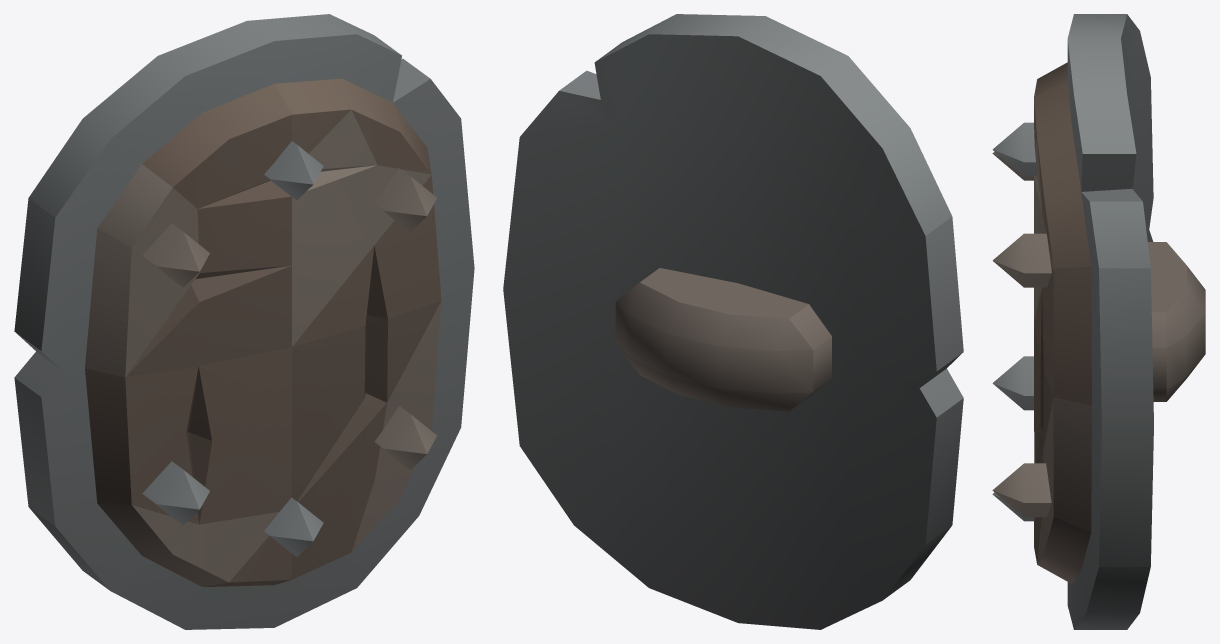
The model's file is XS_Skeleton_Shield_Large_B.glb.
The picture shows the model from 3 angles, left to right: view 1: azimuth 30°, elevation 25°; view 2: azimuth 150°, elevation 25°; view 3: azimuth 270°, elevation 25°; orthographic projection. The views are drawn at different scales.
Visible parts, largest first — view 1: Skeleton_Shield_Large_B; view 2: Skeleton_Shield_Large_B; view 3: Skeleton_Shield_Large_B.
Boxes of the visible parts, box(x1,y1,x2,y2) form: Skeleton_Shield_Large_B: box(14, 14, 474, 629); Skeleton_Shield_Large_B: box(503, 14, 963, 629); Skeleton_Shield_Large_B: box(992, 14, 1205, 629).
Size of the model in its own units: 0.8771 by 1.13 by 0.387.
